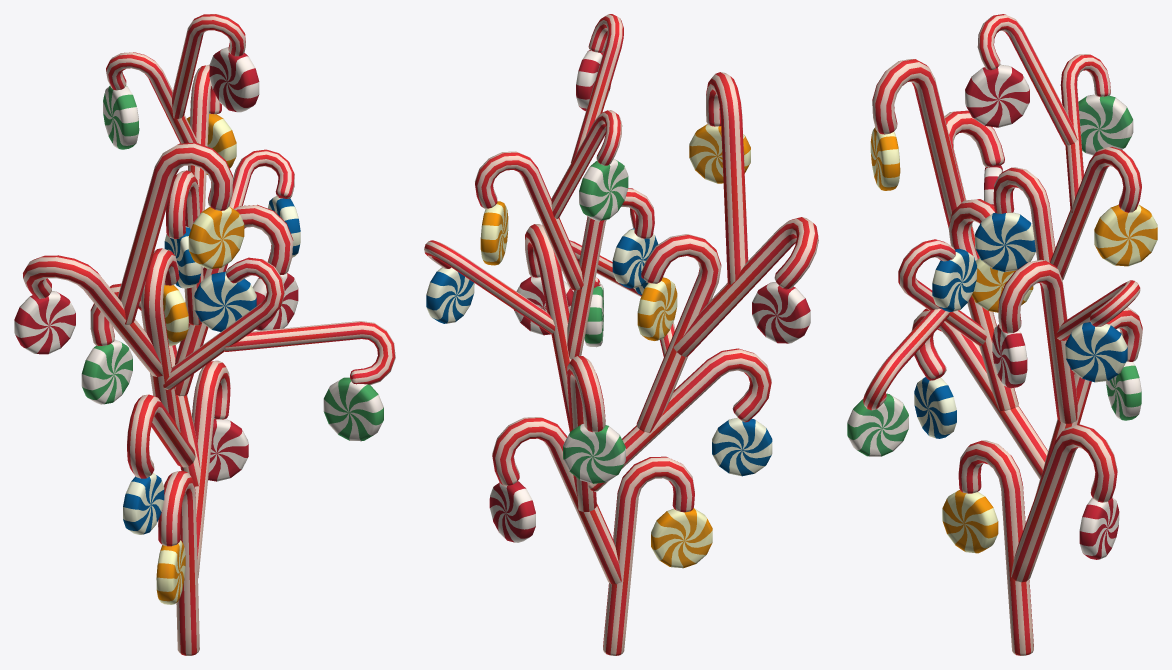
Rendered from cw_tree_12.fbx.
3 renders of one model, left to right at view 1: azimuth 30°, elevation 25°; view 2: azimuth 150°, elevation 25°; view 3: azimuth 270°, elevation 25°, orthographic. The views are drawn at different scales.
Visible parts, largest first — view 1: cw_t_12; view 2: cw_t_12; view 3: cw_t_12.
Part boxes in pixels (x1=…): cw_t_12: x1=14, y1=14, x2=395, y2=655; cw_t_12: x1=424, y1=14, x2=818, y2=655; cw_t_12: x1=847, y1=14, x2=1157, y2=655.
Bounding box in the file's own units: 109 × 202 × 88.01.
